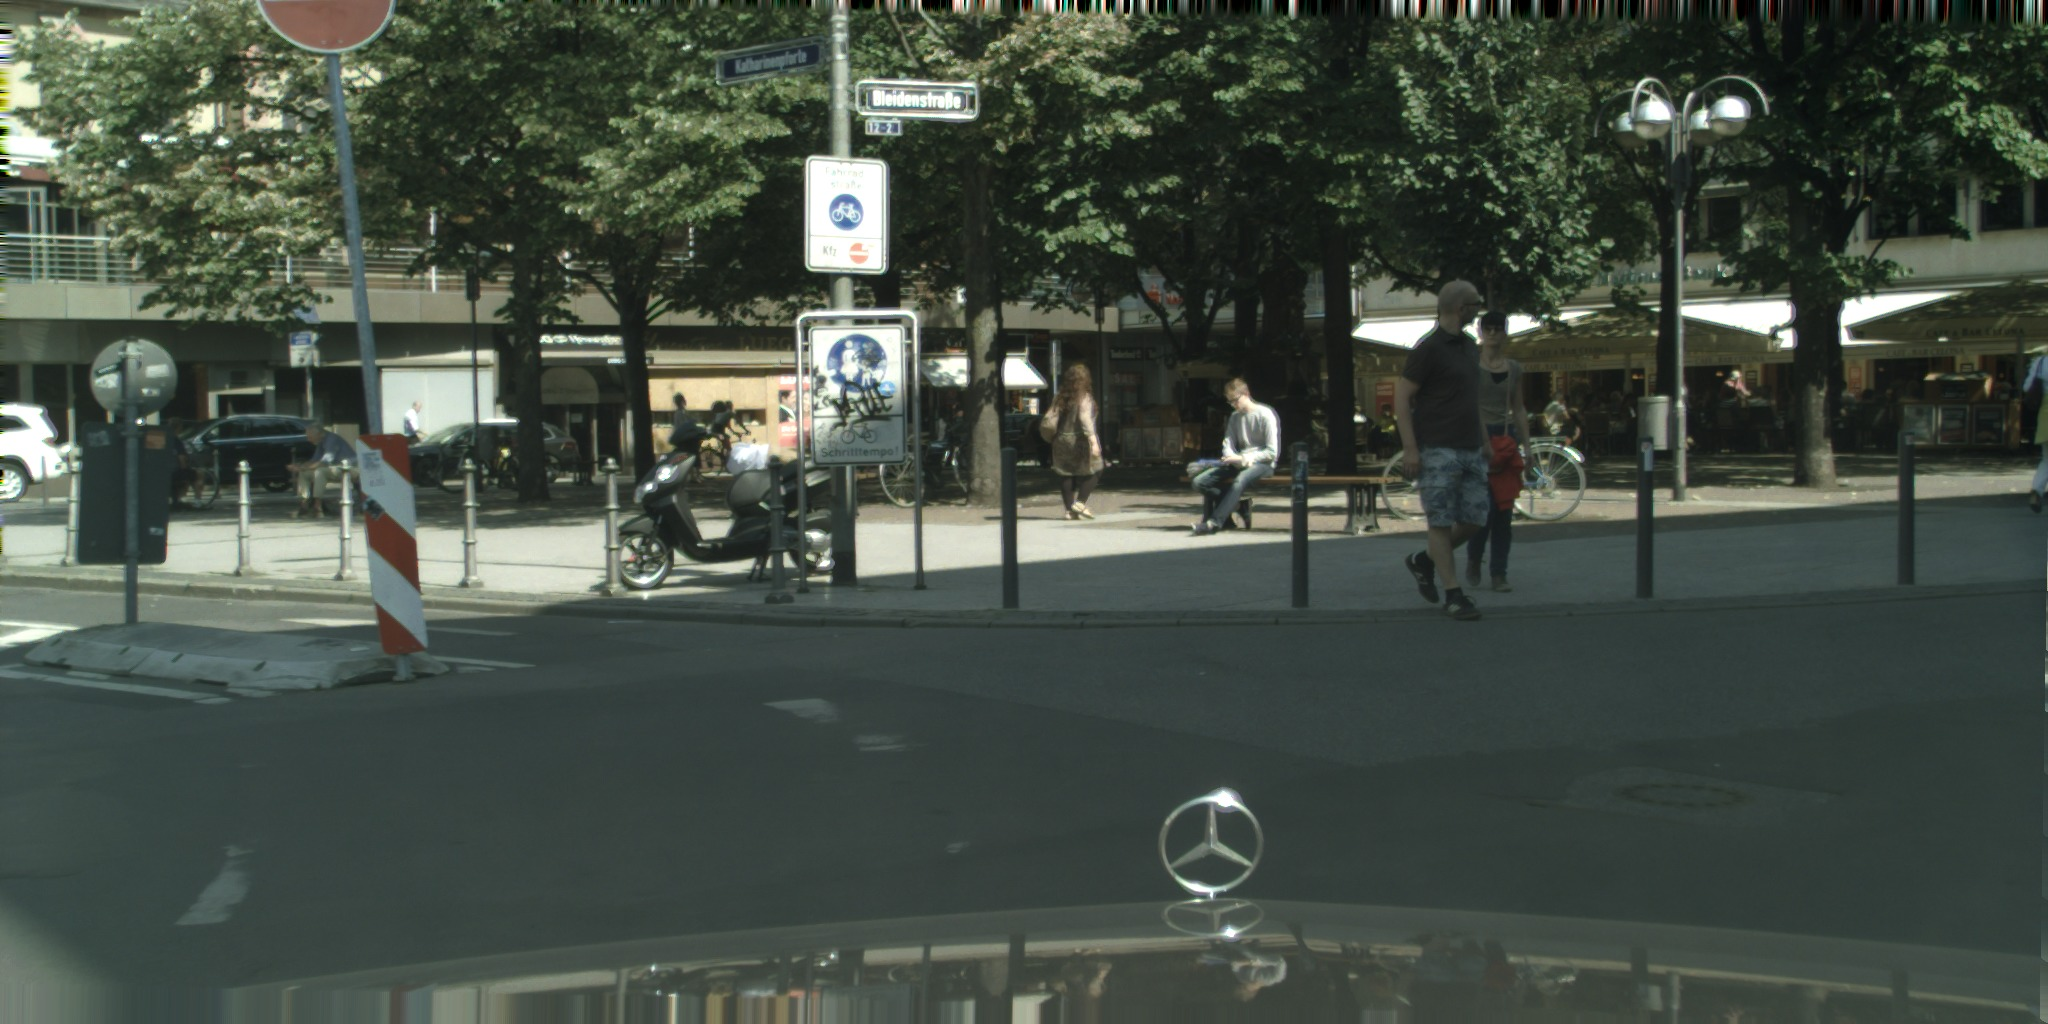bicycle: (1382, 409, 1587, 520), (879, 421, 974, 509), (166, 468, 219, 510)
car: (405, 421, 581, 487), (171, 414, 319, 493), (0, 402, 66, 504), (998, 412, 1062, 471)
motorcycle: (617, 418, 860, 590)
person: (1393, 278, 1494, 623), (1464, 311, 1543, 591), (1189, 378, 1280, 535), (1041, 363, 1110, 521), (283, 424, 364, 520), (2021, 347, 2048, 513), (159, 417, 194, 509), (404, 400, 429, 446)
rider: (667, 392, 704, 484), (710, 400, 749, 468)
